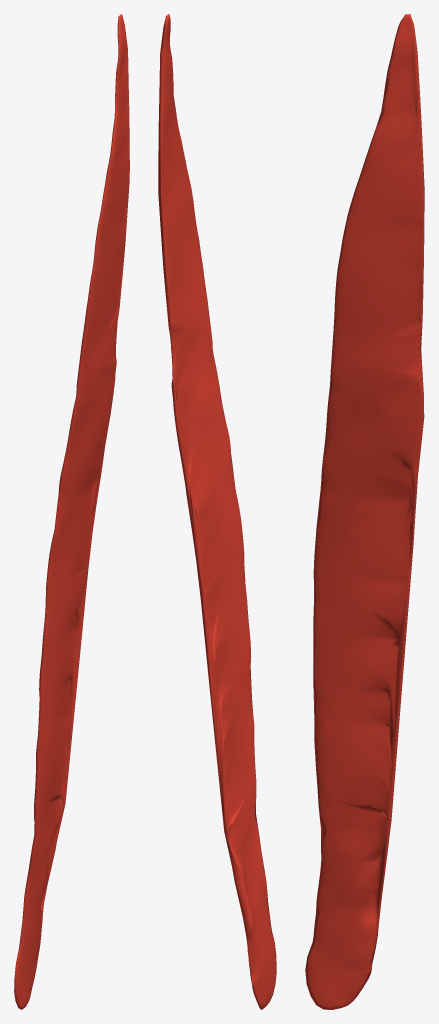
Rendered from Extensor_hallucis_longus_on_fibula_and_interosseus_membrane_Gen.glb.
The picture shows the model from 3 angles, left to right: view 1: azimuth 30°, elevation 25°; view 2: azimuth 210°, elevation 25°; view 3: azimuth 330°, elevation 25°; orthographic projection. The views are drawn at different scales.
Visible parts, largest first — view 1: Extensor_hallucis_longus_on_fibula_and_interosseus_membrane_; view 2: Extensor_hallucis_longus_on_fibula_and_interosseus_membrane_; view 3: Extensor_hallucis_longus_on_fibula_and_interosseus_membrane_.
Boxes of the visible parts, left/top/right/bottom form: Extensor_hallucis_longus_on_fibula_and_interosseus_membrane_: left=14, top=14, right=129, bottom=1009; Extensor_hallucis_longus_on_fibula_and_interosseus_membrane_: left=158, top=14, right=276, bottom=1009; Extensor_hallucis_longus_on_fibula_and_interosseus_membrane_: left=305, top=14, right=424, bottom=1009.
Bounding box in the file's own units: 0.0175 × 0.1434 × 0.0121.
